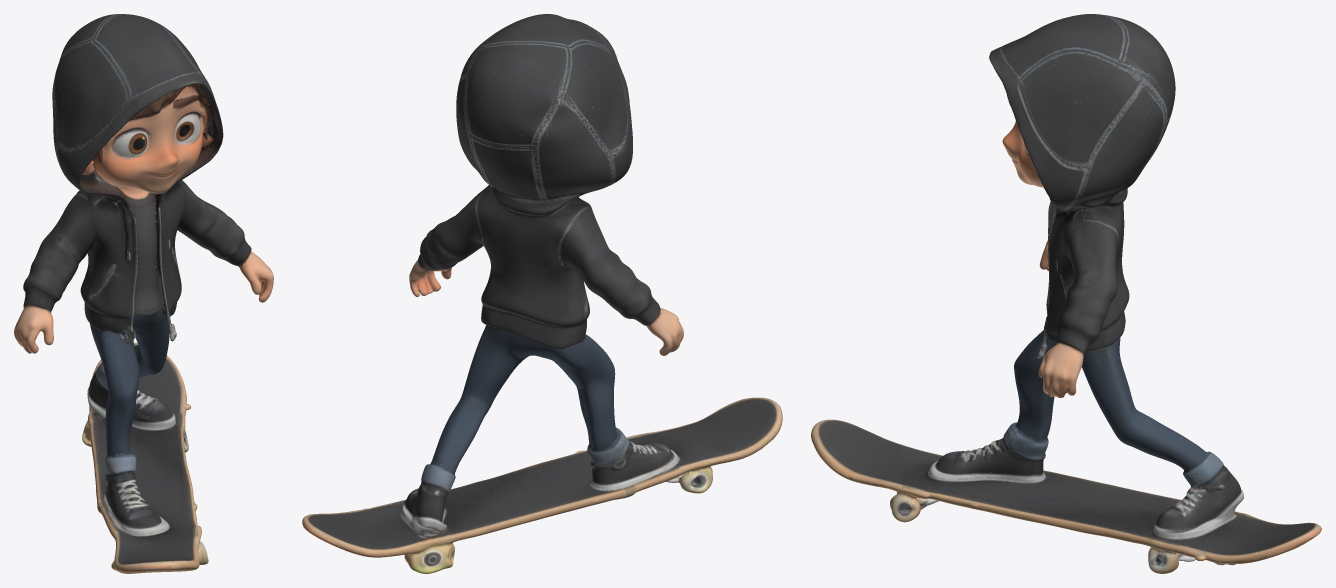
The model's file is player_game.glb.
The picture shows the model from 3 angles, left to right: view 1: azimuth 30°, elevation 25°; view 2: azimuth 150°, elevation 25°; view 3: azimuth 270°, elevation 25°; orthographic projection. The views are drawn at different scales.
Bounding box in the file's own units: 1.12 × 2 × 1.84.
Materials: 1 (1 with a texture image).
